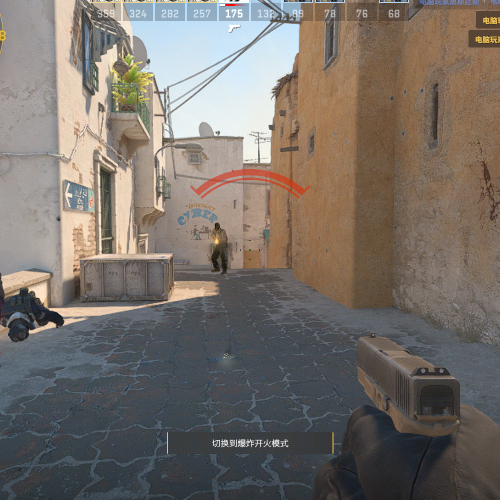t_body: (210, 222, 229, 275)
t_head: (214, 222, 220, 231)
